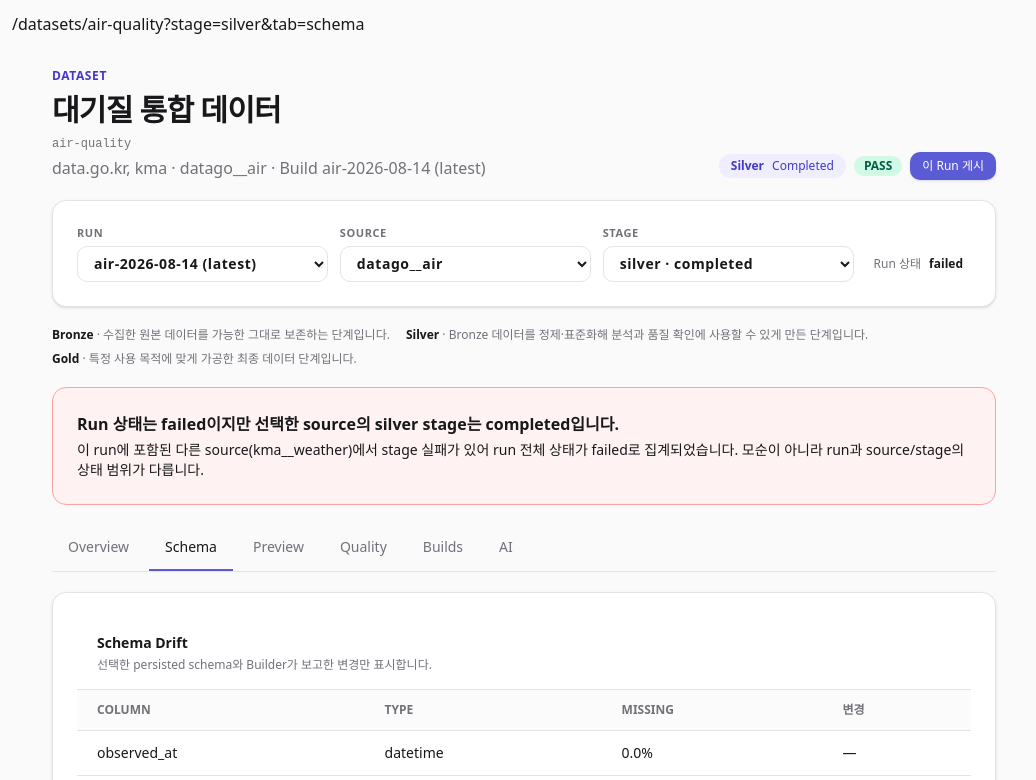
Test: Dataset Detail P0 (#253) › updates the stage URL from lineage and applies it to Schema context
Expected: the text "observed_at" is shown, [77, 730, 365, 775]
Select "bronze · completed" in the dropdown named "Stage 선택" at {"x": 728, "y": 264}, box [603, 246, 854, 282]
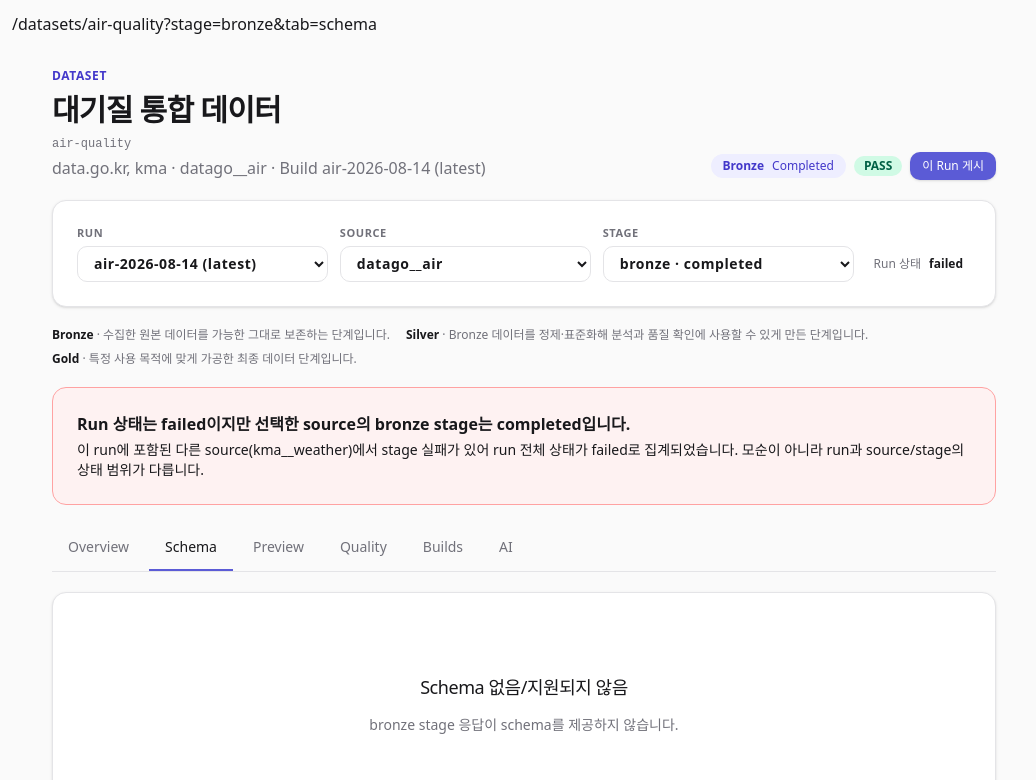
Result: the text with test id "location" shows "stage=bronze" at [164, 13, 377, 35]
Result: the text "Schema 없음/지원되지 않음" is shown at [420, 672, 628, 700]
